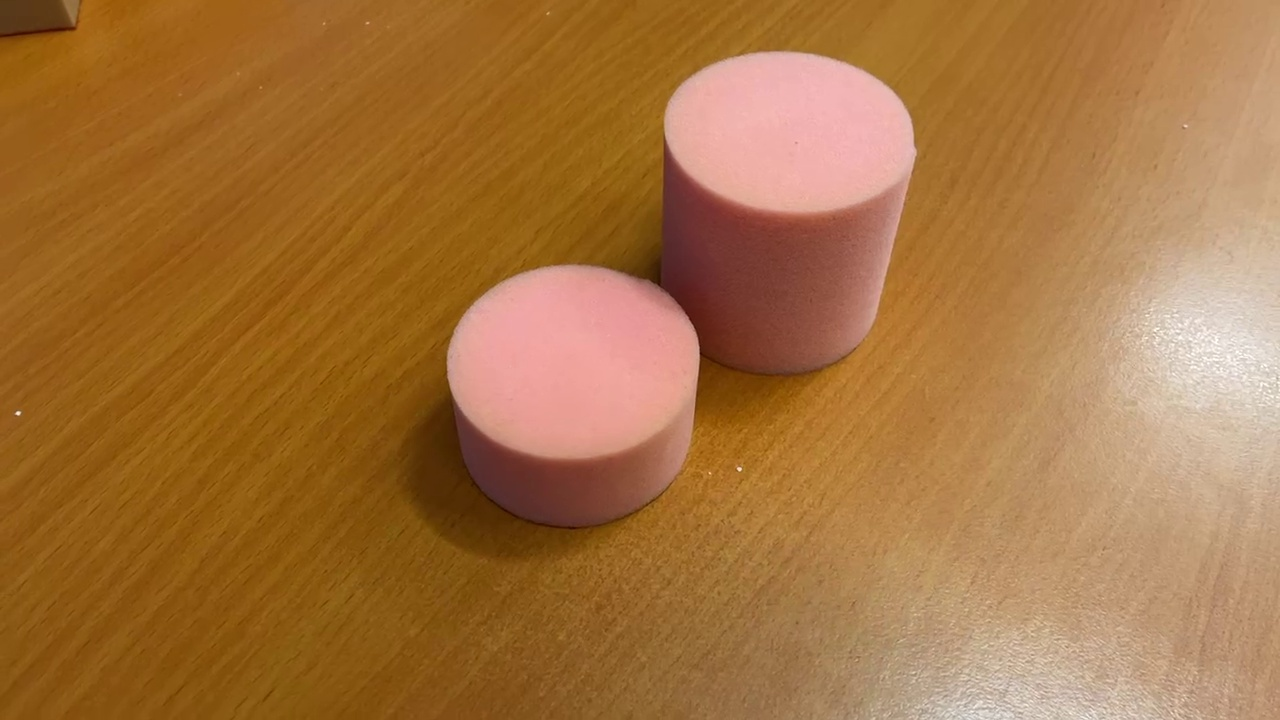Clyinder_short: (440, 260, 701, 531)
Cylinder: (649, 45, 920, 377)
